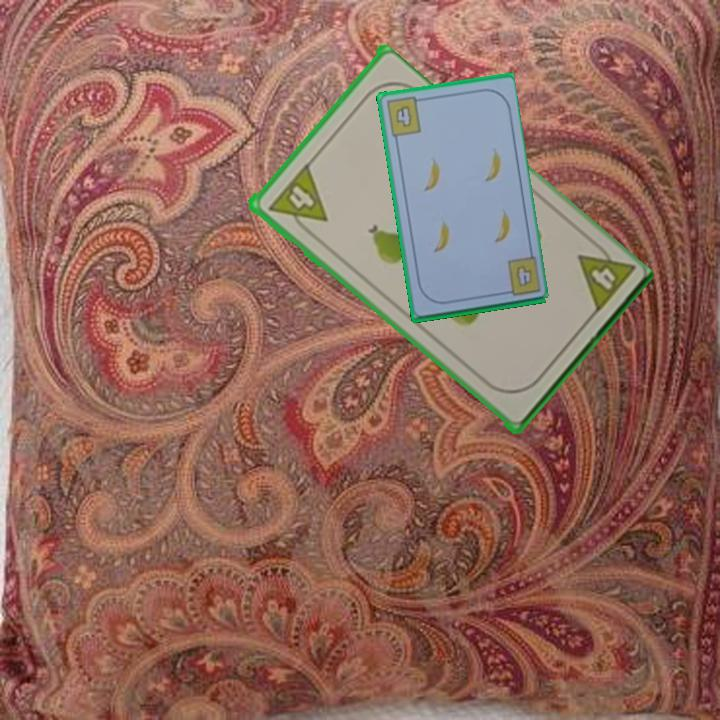4b: (382, 93, 426, 139), (512, 261, 535, 290)
4p: (572, 235, 637, 318), (264, 161, 330, 239)
